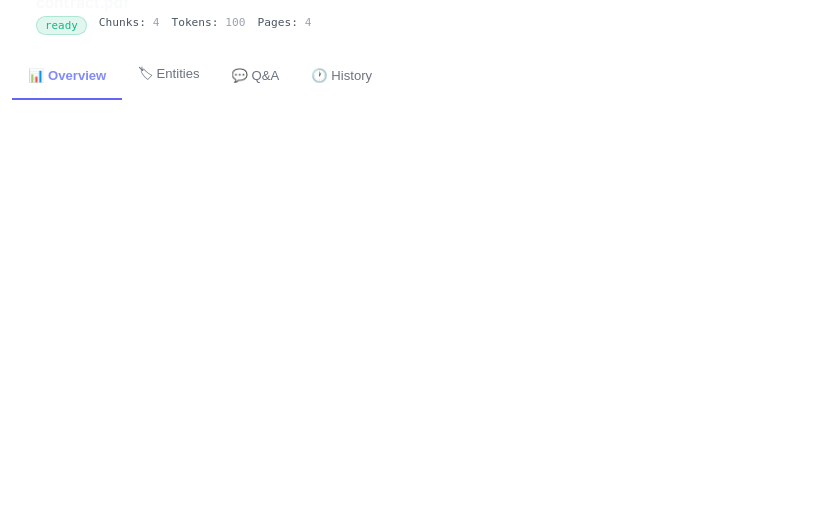
shows every complete evidence passage with physical page labels
Click the button "💬 Q&A" at (255,76), box [216,52,295,100]
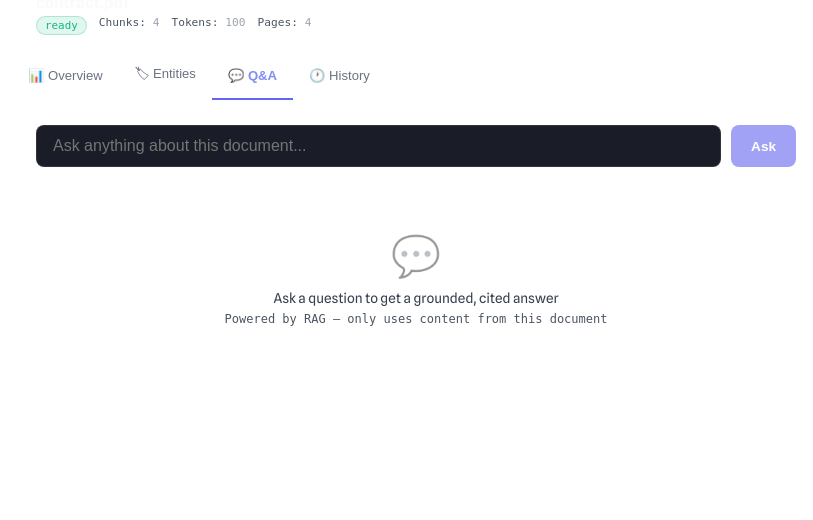
Type "Warranty duration?" into the field at (379,146), box [36,125,721,167]
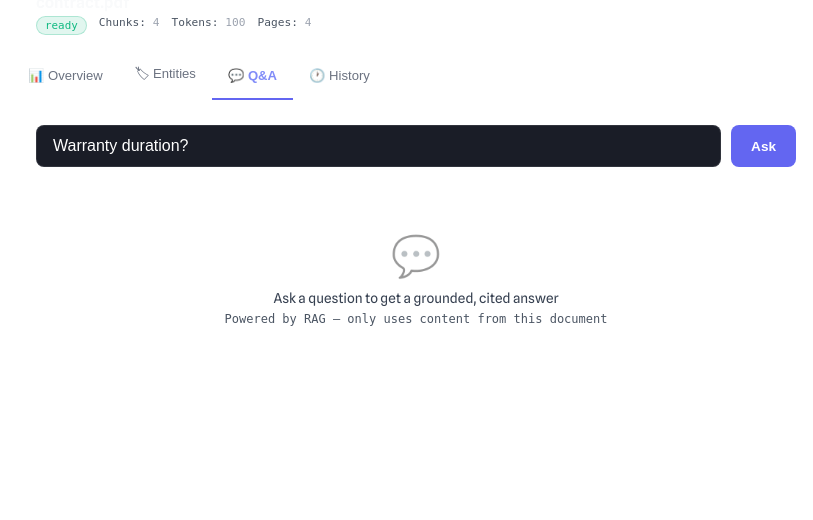
Click the button "Ask" at (764,146), box [731,125,796,167]
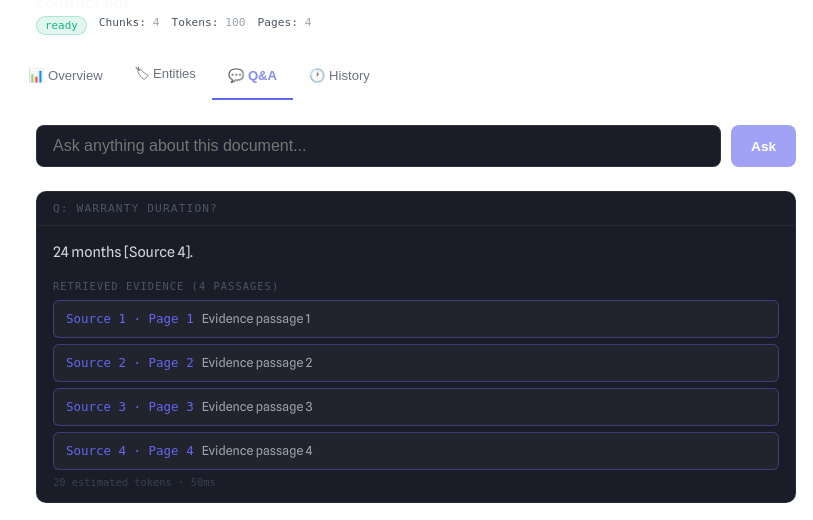
Expected: the text "Evidence passage 4" is shown, [202,443,312,458]
Expected: the text "Source 4 · Page 4" is shown, [66,443,194,458]
Expected: the text "20 estimated tokens · 50ms" is shown, [53,476,216,488]
